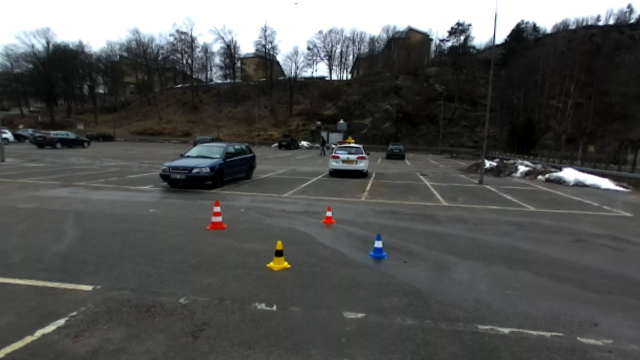blue: (369, 232, 389, 261)
orange: (321, 205, 337, 224)
orange2: (204, 198, 228, 232)
yellow: (266, 239, 291, 273)
